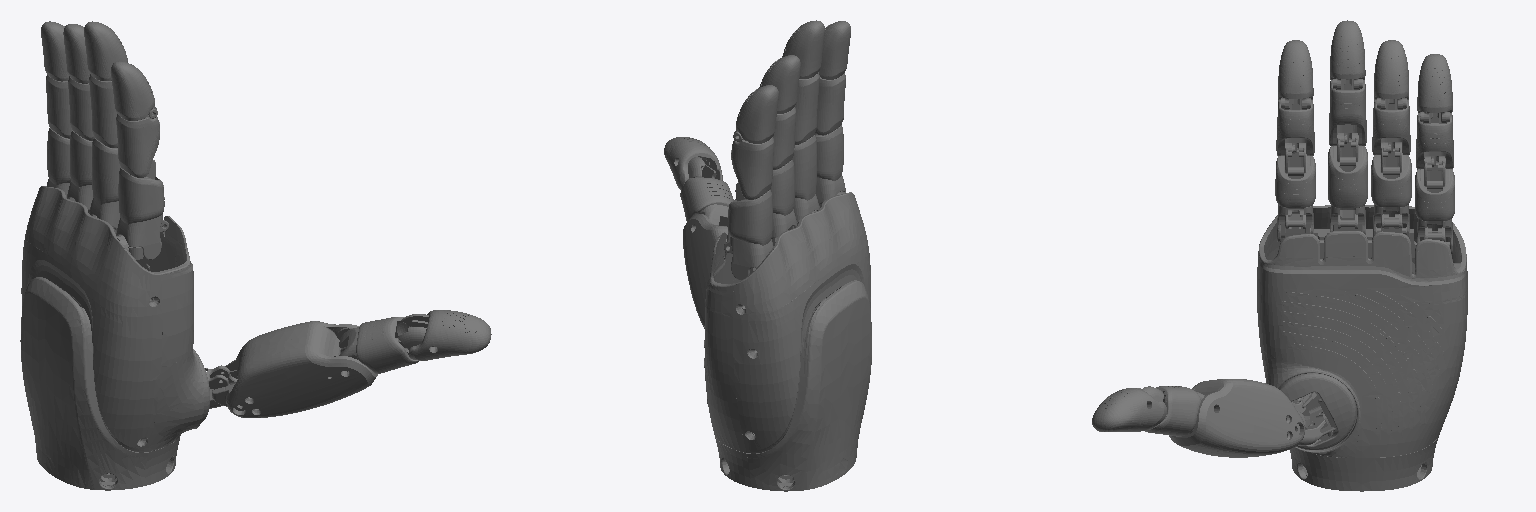
robot.urdf — omnihand:
<?xml version="1.0" ?>
<!-- =================================================================================== -->
<!-- |    This document was autogenerated by xacro from xacro/omnihand_pro_left.xacro  | -->
<!-- |    EDITING THIS FILE BY HAND IS NOT RECOMMENDED                                 | -->
<!-- =================================================================================== -->
<robot name="omnihand">
  <material name="black">
    <color rgba="0.5 0.5 0.5 1.0"/>
  </material>
  <link name="hand_base_link">
    <visual>
      <origin rpy="0 0 0" xyz="0 0 0"/>
      <geometry>
        <mesh filename="meshes/l_hand_base_link.STL"/>
      </geometry>
      <material name="black"/>
    </visual>
    <inertial>
      <origin rpy="0 0 0" xyz="-0.00425607657857528 0.000984907743219104 0.0569954669646572"/>
      <mass value="0.831592534870634"/>
      <inertia ixx="0.00130295787397277" ixy="1.00395530019145e-06" ixz="-2.62221439754335e-05" iyy="0.000759187526142393" iyz="-2.944807671301e-05" izz="0.000650439149629946"/>
    </inertial>
    <collision>
      <origin rpy="0 0 0" xyz="0 0 0.005"/>
      <geometry>
        <cylinder length="0.01" radius="0.032"/>
      </geometry>
    </collision>
    <collision>
      <origin rpy="0 0 0" xyz="0 0 0.057"/>
      <geometry>
        <box size="0.05 0.09 0.09"/>
      </geometry>
    </collision>
  </link>
  <!-- thumb  -->
  <link name="thumb_metacarpals_base1">
    <visual>
      <origin rpy="0 0 0" xyz="0 0 0"/>
      <geometry>
        <mesh filename="meshes/l_thumb_metacarpals_base1.STL"/>
      </geometry>
      <material name="black"/>
    </visual>
    <inertial>
      <origin rpy="0 0 0" xyz="0.0238985392698507 -8.492755494241e-05 0.00143588019194235"/>
      <mass value="0.0487218724123021"/>
      <inertia ixx="1.16014813613108e-05" ixy="1.23718071545455e-07" ixz="-3.36389573955908e-07" iyy="6.59632610273689e-06" iyz="2.95789245057348e-07" izz="6.64077304903063e-06"/>
    </inertial>
  </link>
  <joint name="thumb_roll_joint" type="revolute">
    <origin rpy="2.0246 0 0" xyz="-0.00148 -0.022278 0.04025"/>
    <parent link="hand_base_link"/>
    <child link="thumb_metacarpals_base1"/>
    <axis xyz="1 0 0"/>
    <limit effort="0.134" lower="-0.66" upper="0" velocity="2.38"/>
  </joint>
  <link name="thumb_metacarpals_base2">
    <visual>
      <origin rpy="0 0 0" xyz="0 0 0"/>
      <geometry>
        <mesh filename="meshes/l_thumb_metacarpals_base2.STL"/>
      </geometry>
      <material name="black"/>
    </visual>
    <inertial>
      <origin rpy="0 0 0" xyz="0.00144112186551029 0.00076971553695547 0.0110530851904386"/>
      <mass value="0.00527730022012764"/>
      <inertia ixx="5.13938107714071e-07" ixy="-2.10724699229959e-09" ixz="1.0099134807133e-08" iyy="3.23678037229255e-07" iyz="6.91586588373309e-08" izz="2.43364847603047e-07"/>
    </inertial>
    <collision>
      <origin rpy="0 0 0.9" xyz="0 0 0"/>
      <geometry>
        <box size="0.035 0.006 0.02"/>
      </geometry>
    </collision>
  </link>
  <joint name="thumb_abad_joint" type="revolute">
    <origin rpy="0 0.95993 0" xyz="0.029071 0 0.0033014"/>
    <parent link="thumb_metacarpals_base1"/>
    <child link="thumb_metacarpals_base2"/>
    <axis xyz="0 -1 0"/>
    <limit effort="0.317" lower="0" upper="1.22" velocity="2.33"/>
  </joint>
  <link name="thumb_metacarpals">
    <visual>
      <origin rpy="0 0 0" xyz="0 0 0"/>
      <geometry>
        <mesh filename="meshes/l_thumb_metacarpals.STL"/>
      </geometry>
      <material name="black"/>
    </visual>
    <inertial>
      <origin rpy="0 0 0" xyz="0.00248919792890584 -0.000126945293118824 0.0270125022282254"/>
      <mass value="0.0238744814807847"/>
      <inertia ixx="9.14065262802198e-06" ixy="-1.29455343848178e-08" ixz="1.28925259059347e-07" iyy="1.13640026182741e-05" iyz="1.59529488365259e-08" izz="2.86247043401986e-06"/>
    </inertial>
    <collision>
      <origin rpy="0 -1.57 0" xyz="0.005 0 0.03"/>
      <geometry>
        <box size="0.064 0.023 0.03"/>
      </geometry>
    </collision>
  </link>
  <joint name="thumb_mcp_joint" type="revolute">
    <origin rpy="0 0.66452 1.5708" xyz="0.0016774 0.0068611 0.022935"/>
    <parent link="thumb_metacarpals_base2"/>
    <child link="thumb_metacarpals"/>
    <axis xyz="0 -1 0"/>
    <limit effort="0.8" lower="-0.85" upper="0" velocity="1.35"/>
  </joint>
  <link name="thumb_proximal">
    <visual>
      <origin rpy="0 0 0" xyz="0 0 0"/>
      <geometry>
        <mesh filename="meshes/l_thumb_proximal.STL"/>
      </geometry>
      <material name="black"/>
    </visual>
    <inertial>
      <origin rpy="0 0 0" xyz="-0.00238172899603142 -0.000356731641777103 0.0132495532127846"/>
      <mass value="0.015089750823072"/>
      <inertia ixx="1.307652825223e-06" ixy="-2.30842431261842e-09" ixz="1.78861814916216e-07" iyy="1.76921581769367e-06" iyz="-1.30568351519278e-08" izz="8.42951187578533e-07"/>
    </inertial>
    <collision>
      <origin rpy="0 0 0" xyz="0 -0.002 0.02"/>
      <geometry>
        <cylinder length="0.02" radius="0.01"/>
      </geometry>
    </collision>
  </link>
  <joint name="thumb_pip_joint" type="revolute">
    <origin rpy="0 0 0" xyz="0.0067768 0 0.05582"/>
    <parent link="thumb_metacarpals"/>
    <child link="thumb_proximal"/>
    <axis xyz="0 -1 0"/>
    <limit effort="0.92" lower="-1.29" upper="0" velocity="1.87"/>
  </joint>
  <link name="thumb_distal">
    <visual>
      <origin rpy="0 0 0" xyz="0 0 0"/>
      <geometry>
        <mesh filename="meshes/l_thumb_distal.STL"/>
      </geometry>
      <material name="black"/>
    </visual>
    <inertial>
      <origin rpy="0 0 0" xyz="-0.00103086462486497 4.35579912222428e-07 0.0111718009868479"/>
      <mass value="0.0166245749238282"/>
      <inertia ixx="1.55367650349561e-06" ixy="6.28496740782693e-11" ixz="-2.68802086888384e-07" iyy="1.43025255900936e-06" iyz="3.60153740856451e-11" izz="8.87371852515915e-07"/>
    </inertial>
    <collision>
      <origin rpy="0 0 0" xyz="0 0 0.015"/>
      <geometry>
        <cylinder length="0.03" radius="0.01"/>
      </geometry>
    </collision>
  </link>
  <joint name="thumb_dip_joint" type="revolute">
    <origin rpy="0 0 0" xyz=" -0.0025791  0 0.034516"/>
    <parent link="thumb_proximal"/>
    <child link="thumb_distal"/>
    <axis xyz="0 -1 0"/>
    <limit effort="0.92" lower="-1.31" upper="0" velocity="1.9"/>
    <mimic joint="thumb_pip_joint" multiplier="0.8068" offset="0"/>
  </joint>
  <link name="thumb_distal_vertices_virtual_coordinates">
    <collision>
      <origin rpy="0 0 0" xyz="0 0 0"/>
      <geometry>
        <sphere radius="0.001"/>
      </geometry>
    </collision>
  </link>
  <joint name="thumb_tips" type="fixed">
    <origin rpy="0 0 0" xyz="-0.01107 0 0.02778"/>
    <parent link="thumb_distal"/>
    <child link="thumb_distal_vertices_virtual_coordinates"/>
    <axis xyz="0 0 0"/>
  </joint>
  <!-- index  -->
  <link name="index_metacarpals">
    <visual>
      <origin rpy="0 0 0" xyz="0 0 0"/>
      <geometry>
        <mesh filename="meshes/index_metacarpals.STL"/>
      </geometry>
      <material name="black"/>
    </visual>
    <inertial>
      <origin rpy="0 0 0" xyz="0.00904689264775126 -2.37541539321873e-06 0.00296439795566343"/>
      <mass value="0.00769184155607912"/>
      <inertia ixx="3.12253146637431e-07" ixy="8.36823610669688e-11" ixz="3.47679984094986e-08" iyy="1.96445680122249e-07" iyz="6.80359270914641e-11" izz="2.98132181313685e-07"/>
    </inertial>
  </link>
  <joint name="index_abad_joint" type="revolute">
    <origin rpy="0 0 0" xyz="-0.0134 -0.030778 0.11936"/>
    <parent link="hand_base_link"/>
    <child link="index_metacarpals"/>
    <axis xyz="1 0 0"/>
    <limit effort="1.001" lower="-0.26" upper="0.26" velocity="2.16"/>
  </joint>
  <link name="index_proximal">
    <visual>
      <origin rpy="0 0 0" xyz="0 0 0"/>
      <geometry>
        <mesh filename="meshes/index_proximal.STL"/>
      </geometry>
      <material name="black"/>
    </visual>
    <inertial>
      <origin rpy="0 0 0" xyz="-0.00199825952289442 -2.64457175807586e-05 0.0201667389503313"/>
      <mass value="0.00942126624293676"/>
      <inertia ixx="1.22975708566729e-06" ixy="2.28040809755226e-10" ixz="-5.99595621936577e-08" iyy="1.34371119474184e-06" iyz="-7.2313211083901e-10" izz="3.61297485727319e-07"/>
    </inertial>
    <collision>
      <origin rpy="0 0 0" xyz="-0.002 0 0.016"/>
      <geometry>
        <cylinder length="0.038" radius="0.01"/>
      </geometry>
    </collision>
  </link>
  <joint name="index_mcp_joint" type="revolute">
    <origin rpy="0 0 0" xyz="0.01357 0 0"/>
    <parent link="index_metacarpals"/>
    <child link="index_proximal"/>
    <axis xyz="0 1 0"/>
    <limit effort="0.42" lower="0" upper="1.33" velocity="2.22"/>
  </joint>
  <link name="index_middle">
    <visual>
      <origin rpy="0 0 0" xyz="0 0 0"/>
      <geometry>
        <mesh filename="meshes/index_middle.STL"/>
      </geometry>
      <material name="black"/>
    </visual>
    <inertial>
      <origin rpy="0 0 0" xyz="0.000915277748706721 -2.44819798689566e-05 0.0134565632396798"/>
      <mass value="0.00438956668936868"/>
      <inertia ixx="3.90192390925837e-07" ixy="-1.18711764286958e-10" ixz="3.07110243989117e-08" iyy="3.39842342249121e-07" iyz="4.52776521802555e-11" izz="2.34598309279793e-07"/>
    </inertial>
    <collision>
      <origin rpy="0 0 0" xyz="0.001 0 0.015"/>
      <geometry>
        <cylinder length="0.022" radius="0.01"/>
      </geometry>
    </collision>
  </link>
  <joint name="index_pip_joint" type="revolute">
    <origin rpy="0 0 0" xyz="-0.0044047 0 0.039781"/>
    <parent link="index_proximal"/>
    <child link="index_middle"/>
    <axis xyz="0 1 0"/>
    <limit effort="0.216" lower="0" upper="1.48" velocity="2.49"/>
  </joint>
  <link name="index_distal">
    <visual>
      <origin rpy="0 0 0" xyz="0 0 0"/>
      <geometry>
        <mesh filename="meshes/index_distal.STL"/>
      </geometry>
      <material name="black"/>
    </visual>
    <inertial>
      <origin rpy="0 0 0" xyz="-0.00788115735969092 -1.62686611911711e-05 0.00734085069241115"/>
      <mass value="0.00919575167024177"/>
      <inertia ixx="6.1598320028546e-07" ixy="4.87748545899042e-10" ixz="-1.46101909693797e-07" iyy="6.32146337383652e-07" iyz="-1.82637544331928e-09" izz="3.00226734906959e-07"/>
    </inertial>
    <collision>
      <origin rpy="0 0 0" xyz="-0.006 0 0.013"/>
      <geometry>
        <cylinder length="0.02" radius="0.01"/>
      </geometry>
    </collision>
  </link>
  <joint name="index_dip_joint" type="revolute">
    <origin rpy="0 0 0" xyz=" 0.0058514  0 0.026478"/>
    <parent link="index_middle"/>
    <child link="index_distal"/>
    <axis xyz="0 1 0"/>
    <limit effort="0.216" lower="0" upper="1.31" velocity="2.85"/>
    <mimic joint="index_pip_joint" multiplier="1.0362" offset="0"/>
  </joint>
  <link name="index_distal_vertices_virtual_coordinates">
    <collision>
      <origin rpy="0 0 0" xyz="0 0 0"/>
      <geometry>
        <sphere radius="0.001"/>
      </geometry>
    </collision>
  </link>
  <joint name="index_tip" type="fixed">
    <origin rpy="0 0 0" xyz="-0.01465 0 0.02533"/>
    <parent link="index_distal"/>
    <child link="index_distal_vertices_virtual_coordinates"/>
  </joint>
  <!-- middle  -->
  <link name="middle_metacarpals">
    <visual>
      <origin rpy="0 0 0" xyz="0 0 0"/>
      <geometry>
        <mesh filename="meshes/middle_metacarpals.STL"/>
      </geometry>
      <material name="black"/>
    </visual>
    <inertial>
      <origin rpy="0 0 0" xyz="0.00886137366293534 -3.75661207696609e-09 0.00266832955690114"/>
      <mass value="0.00637102949978218"/>
      <inertia ixx="2.41627954466445e-07" ixy="2.52962153485538e-12" ixz="2.44913153285072e-08" iyy="1.58576266250976e-07" iyz="5.93368216213693e-13" izz="2.58849212903404e-07"/>
    </inertial>
  </link>
  <joint name="middle_abad_joint" type="revolute">
    <origin rpy="0 0 0" xyz="-0.0134 -0.0066607 0.11936"/>
    <parent link="hand_base_link"/>
    <child link="middle_metacarpals"/>
    <axis xyz="1 0 0"/>
    <limit effort="1.031" lower="-0.26" upper="0.26" velocity="2.16"/>
  </joint>
  <link name="middle_proximal">
    <visual>
      <origin rpy="0 0 0" xyz="0 0 0"/>
      <geometry>
        <mesh filename="meshes/middle_proximal.STL"/>
      </geometry>
      <material name="black"/>
    </visual>
    <inertial>
      <origin rpy="0 0 0" xyz="-0.00165476847526829 -2.20979993567627e-06 0.0225332391057417"/>
      <mass value="0.0105445601098368"/>
      <inertia ixx="1.73042184201086e-06" ixy="2.04331701697306e-10" ixz="-5.90285580204209e-08" iyy="1.85661332749592e-06" iyz="-1.32105746258306e-09" izz="4.2136357029816e-07"/>
    </inertial>
    <collision>
      <origin rpy="0 0 0" xyz="-0.002 0 0.016"/>
      <geometry>
        <cylinder length="0.04" radius="0.01"/>
      </geometry>
    </collision>
  </link>
  <joint name="middle_mcp_joint" type="revolute">
    <origin rpy="0 0 0" xyz="0.01337 0 0"/>
    <parent link="middle_metacarpals"/>
    <child link="middle_proximal"/>
    <axis xyz="0 1 0"/>
    <limit effort="0.413" lower="0" upper="1.33" velocity="2.22"/>
  </joint>
  <link name="middle_middle">
    <visual>
      <origin rpy="0 0 0" xyz="0 0 0"/>
      <geometry>
        <mesh filename="meshes/middle_middle.STL"/>
      </geometry>
      <material name="black"/>
    </visual>
    <inertial>
      <origin rpy="0 0 0" xyz="0.000830746222013005 4.34482098339573e-05 0.0161492835641447"/>
      <mass value="0.00495728561619528"/>
      <inertia ixx="5.48440909443586e-07" ixy="6.39554522791554e-11" ixz="4.33803111439142e-08" iyy="4.91459567907306e-07" iyz="-6.02486738632266e-11" izz="2.62953076584762e-07"/>
    </inertial>
    <collision>
      <origin rpy="0 0 0" xyz="0.001 0 0.014"/>
      <geometry>
        <cylinder length="0.028" radius="0.01"/>
      </geometry>
    </collision>
  </link>
  <joint name="middle_pip_joint" type="revolute">
    <origin rpy="0 0 0" xyz="-0.0040396 0 0.044837"/>
    <parent link="middle_proximal"/>
    <child link="middle_middle"/>
    <axis xyz="0 1 0"/>
    <limit effort="0.136" lower="0" upper="1.71" velocity="2.16"/>
  </joint>
  <link name="middle_distal">
    <visual>
      <origin rpy="0 0 0" xyz="0 0 0"/>
      <geometry>
        <mesh filename="meshes/middle_distal.STL"/>
      </geometry>
      <material name="black"/>
    </visual>
    <inertial>
      <origin rpy="0 0 0" xyz="-0.00783321210053064 0.000103726115592395 0.00739196062285884"/>
      <mass value="0.00919573396837047"/>
      <inertia ixx="6.17868791705364e-07" ixy="4.75945812309197e-10" ixz="-1.44033848644933e-07" iyy="6.32143569461496e-07" iyz="-1.83019369609838e-09" izz="2.98337914527375e-07"/>
    </inertial>
    <collision>
      <origin rpy="0 0 0" xyz="-0.006 0 0.014"/>
      <geometry>
        <cylinder length="0.018" radius="0.01"/>
      </geometry>
    </collision>
  </link>
  <joint name="middle_dip_joint" type="revolute">
    <origin rpy="0 0 0" xyz=" 0.005529  0 0.031336"/>
    <parent link="middle_middle"/>
    <child link="middle_distal"/>
    <axis xyz="0 1 0"/>
    <limit effort="0.136" lower="0" upper="1.31" velocity="2.48"/>
    <mimic joint="middle_pip_joint" multiplier="1.0924" offset="0"/>
  </joint>
  <link name="middle_distal_vertices_virtual_coordinates">
    <collision>
      <origin rpy="0 0 0" xyz="0 0 0"/>
      <geometry>
        <sphere radius="0.001"/>
      </geometry>
    </collision>
  </link>
  <joint name="middle_tip" type="fixed">
    <origin rpy="0 0 0" xyz="-0.01465 0 0.02533"/>
    <parent link="middle_distal"/>
    <child link="middle_distal_vertices_virtual_coordinates"/>
  </joint>
  <!-- ring  -->
  <link name="ring_proximal">
    <visual>
      <origin rpy="0 0 0" xyz="0 0 0"/>
      <geometry>
        <mesh filename="meshes/ring_proximal.STL"/>
      </geometry>
      <material name="black"/>
    </visual>
    <inertial>
      <origin rpy="0 0 0" xyz="-0.00161802170047008 2.08220096852268e-05 0.0212342177709951"/>
      <mass value="0.0047795328266326"/>
      <inertia ixx="5.43923252152409e-07" ixy="8.48896522637981e-11" ixz="2.4689478865027e-08" iyy="5.41640127982143e-07" iyz="2.5218290048469e-10" izz="1.76501748993068e-07"/>
    </inertial>
    <collision>
      <origin rpy="0 0 0" xyz="-0.002 0 0.014"/>
      <geometry>
        <cylinder length="0.035" radius="0.01"/>
      </geometry>
    </collision>
  </link>
  <joint name="ring_mcp_joint" type="revolute">
    <origin rpy="0.0 0.0 0.0" xyz="0.0001598 0.013518 0.11972"/>
    <parent link="hand_base_link"/>
    <child link="ring_proximal"/>
    <axis xyz="0 1 0"/>
    <limit effort="0.444" lower="0" upper="1.38" velocity="2.54"/>
  </joint>
  <link name="ring_middle">
    <visual>
      <origin rpy="0 0 0" xyz="0 0 0"/>
      <geometry>
        <mesh filename="meshes/ring_middle.STL"/>
      </geometry>
      <material name="black"/>
    </visual>
    <inertial>
      <origin rpy="0 0 0" xyz="0.000940340714750308 1.66667751162405e-05 0.0134216382614548"/>
      <mass value="0.0047795328266326"/>
      <inertia ixx="2.25767846748625e-07" ixy="-4.61360531413437e-12" ixz="2.32301202429608e-09" iyy="1.61875511170868e-07" iyz="9.05860342855209e-12" izz="1.17700137222491e-07"/>
    </inertial>
    <collision>
      <origin rpy="0 0 0" xyz="0.0015 0 0.014"/>
      <geometry>
        <cylinder length="0.028" radius="0.01"/>
      </geometry>
    </collision>
  </link>
  <joint name="ring_pip_joint" type="revolute">
    <origin rpy="0 0 0" xyz="-0.0039371 0 0.03983"/>
    <parent link="ring_proximal"/>
    <child link="ring_middle"/>
    <axis xyz="0 1 0"/>
    <limit effort="0.444" lower="0" upper="1.57" velocity="2.29"/>
    <mimic joint="ring_mcp_joint" multiplier="0.877" offset="0"/>
  </joint>
  <link name="ring_distal">
    <visual>
      <origin rpy="0 0 0" xyz="0 0 0"/>
      <geometry>
        <mesh filename="meshes/ring_distal.STL"/>
      </geometry>
      <material name="black"/>
    </visual>
    <inertial>
      <origin rpy="0 0 0" xyz="-0.0077943915041099 -2.51275100347781e-05 0.00743291370409035"/>
      <mass value="0.00919575186910556"/>
      <inertia ixx="6.19370856718727e-07" ixy="4.661874813998e-10" ixz="-1.42352843928183e-07" iyy="6.32145627609476e-07" iyz="-1.83190371320788e-09" izz="2.9683840460863e-07"/>
    </inertial>
    <collision>
      <origin rpy="0 0 0" xyz="-0.006 0 0.014"/>
      <geometry>
        <cylinder length="0.018" radius="0.01"/>
      </geometry>
    </collision>
  </link>
  <joint name="ring_dip_joint" type="revolute">
    <origin rpy="0 0 0" xyz=" 0.006162  0 0.026407"/>
    <parent link="ring_middle"/>
    <child link="ring_distal"/>
    <axis xyz="0 1 0"/>
    <limit effort="0.444" lower="0" upper="1.31" velocity="2.62"/>
    <mimic joint="ring_mcp_joint" multiplier="0.9394" offset="0"/>
  </joint>
  <link name="ring_distal_vertices_virtual_coordinates">
    <collision>
      <origin rpy="0 0 0" xyz="0 0 0"/>
      <geometry>
        <sphere radius="0.001"/>
      </geometry>
    </collision>
  </link>
  <joint name="ring_tip_joint" type="fixed">
    <origin rpy="0 0 0" xyz="-0.01465 0 0.02533"/>
    <parent link="ring_distal"/>
    <child link="ring_distal_vertices_virtual_coordinates"/>
  </joint>
  <!-- ring  -->
  <link name="pinky_proximal">
    <visual>
      <origin rpy="0 0 0" xyz="0 0 0"/>
      <geometry>
        <mesh filename="meshes/ring_proximal.STL"/>
      </geometry>
      <material name="black"/>
    </visual>
    <inertial>
      <origin rpy="0 0 0" xyz="-0.00161802170047008 2.08220096852268e-05 0.0212342177709951"/>
      <mass value="0.0047795328266326"/>
      <inertia ixx="5.43923252152409e-07" ixy="8.48896522637981e-11" ixz="2.4689478865027e-08" iyy="5.41640127982143e-07" iyz="2.5218290048469e-10" izz="1.76501748993068e-07"/>
    </inertial>
    <collision>
      <origin rpy="0 0 0" xyz="-0.002 0 0.014"/>
      <geometry>
        <cylinder length="0.035" radius="0.01"/>
      </geometry>
    </collision>
  </link>
  <joint name="pinky_mcp_joint" type="revolute">
    <origin rpy="0.0 0.0 0.0" xyz="0.0001598 0.033576 0.11272"/>
    <parent link="hand_base_link"/>
    <child link="pinky_proximal"/>
    <axis xyz="0 1 0"/>
    <limit effort="0.444" lower="0" upper="1.38" velocity="2.54"/>
  </joint>
  <link name="pinky_middle">
    <visual>
      <origin rpy="0 0 0" xyz="0 0 0"/>
      <geometry>
        <mesh filename="meshes/ring_middle.STL"/>
      </geometry>
      <material name="black"/>
    </visual>
    <inertial>
      <origin rpy="0 0 0" xyz="0.000940340714750308 1.66667751162405e-05 0.0134216382614548"/>
      <mass value="0.0047795328266326"/>
      <inertia ixx="2.25767846748625e-07" ixy="-4.61360531413437e-12" ixz="2.32301202429608e-09" iyy="1.61875511170868e-07" iyz="9.05860342855209e-12" izz="1.17700137222491e-07"/>
    </inertial>
    <collision>
      <origin rpy="0 0 0" xyz="0.0015 0 0.014"/>
      <geometry>
        <cylinder length="0.028" radius="0.01"/>
      </geometry>
    </collision>
  </link>
  <joint name="pinky_pip_joint" type="revolute">
    <origin rpy="0 0 0" xyz="-0.0039371 0 0.03983"/>
    <parent link="pinky_proximal"/>
    <child link="pinky_middle"/>
    <axis xyz="0 1 0"/>
    <limit effort="0.444" lower="0" upper="1.57" velocity="2.29"/>
    <mimic joint="pinky_mcp_joint" multiplier="0.877" offset="0"/>
  </joint>
  <link name="pinky_distal">
    <visual>
      <origin rpy="0 0 0" xyz="0 0 0"/>
      <geometry>
        <mesh filename="meshes/ring_distal.STL"/>
      </geometry>
      <material name="black"/>
    </visual>
    <inertial>
      <origin rpy="0 0 0" xyz="-0.0077943915041099 -2.51275100347781e-05 0.00743291370409035"/>
      <mass value="0.00919575186910556"/>
      <inertia ixx="6.19370856718727e-07" ixy="4.661874813998e-10" ixz="-1.42352843928183e-07" iyy="6.32145627609476e-07" iyz="-1.83190371320788e-09" izz="2.9683840460863e-07"/>
    </inertial>
    <collision>
      <origin rpy="0 0 0" xyz="-0.006 0 0.014"/>
      <geometry>
        <cylinder length="0.018" radius="0.01"/>
      </geometry>
    </collision>
  </link>
  <joint name="pinky_dip_joint" type="revolute">
    <origin rpy="0 0 0" xyz=" 0.006162  0 0.026407"/>
    <parent link="pinky_middle"/>
    <child link="pinky_distal"/>
    <axis xyz="0 1 0"/>
    <limit effort="0.444" lower="0" upper="1.31" velocity="2.62"/>
    <mimic joint="pinky_mcp_joint" multiplier="0.9394" offset="0"/>
  </joint>
  <link name="pinky_distal_vertices_virtual_coordinates">
    <collision>
      <origin rpy="0 0 0" xyz="0 0 0"/>
      <geometry>
        <sphere radius="0.001"/>
      </geometry>
    </collision>
  </link>
  <joint name="pinky_tip_joint" type="fixed">
    <origin rpy="0 0 0" xyz="-0.01465 0 0.02533"/>
    <parent link="pinky_distal"/>
    <child link="pinky_distal_vertices_virtual_coordinates"/>
  </joint>
</robot>

--- What the picture shows (computed from the rendered views, not written in the file) ---
Views: 3 orthographic renders of the robot side by side, from view 1: azimuth 30°, elevation 25°; view 2: azimuth 150°, elevation 25°; view 3: azimuth 270°, elevation 25°.
Robot: omnihand — 25 links, 24 joints (19 revolute, 5 fixed); root link hand_base_link; default pose: all joints at 0.
Visible links, largest first — view 1: hand_base_link, thumb_metacarpals, thumb_distal, index_proximal, thumb_proximal, index_middle, middle_proximal, index_distal, middle_distal, middle_middle, ring_proximal, pinky_proximal (+5 smaller); view 2: hand_base_link, pinky_proximal, thumb_metacarpals, pinky_middle, thumb_distal, thumb_proximal, pinky_distal, index_proximal, middle_proximal, middle_distal, ring_proximal, index_distal (+4 smaller); view 3: hand_base_link, thumb_metacarpals, middle_proximal, thumb_metacarpals_base1, ring_proximal, index_proximal, pinky_proximal, thumb_distal, pinky_distal, index_distal, ring_distal, middle_distal (+6 smaller).
Link boxes in pixels (bbox=[...]): hand_base_link: bbox=[20, 186, 203, 490]; thumb_metacarpals: bbox=[212, 321, 377, 417]; thumb_distal: bbox=[398, 310, 491, 360]; index_proximal: bbox=[116, 160, 168, 259]; thumb_proximal: bbox=[339, 317, 418, 373]; index_middle: bbox=[116, 108, 159, 177]; middle_proximal: bbox=[89, 138, 120, 232]; index_distal: bbox=[111, 61, 156, 120]; middle_distal: bbox=[84, 21, 127, 80]; middle_middle: bbox=[89, 74, 117, 147]; ring_proximal: bbox=[67, 130, 92, 209]; pinky_proximal: bbox=[47, 128, 75, 201]; hand_base_link: bbox=[704, 191, 871, 491]; pinky_proximal: bbox=[724, 182, 773, 279]; thumb_metacarpals: bbox=[683, 214, 727, 326]; pinky_middle: bbox=[731, 131, 773, 199]; thumb_distal: bbox=[664, 137, 722, 189]; thumb_proximal: bbox=[680, 177, 733, 226]; pinky_distal: bbox=[734, 85, 778, 143]; index_proximal: bbox=[814, 125, 845, 207]; middle_proximal: bbox=[789, 135, 819, 229]; middle_distal: bbox=[782, 20, 824, 78]; ring_proximal: bbox=[770, 160, 796, 238]; index_distal: bbox=[819, 21, 850, 79]; hand_base_link: bbox=[1257, 205, 1467, 491]; thumb_metacarpals: bbox=[1169, 379, 1305, 457]; middle_proximal: bbox=[1328, 133, 1367, 234]; thumb_metacarpals_base1: bbox=[1278, 373, 1355, 449]; ring_proximal: bbox=[1371, 142, 1411, 238]; index_proximal: bbox=[1275, 143, 1315, 241]; pinky_proximal: bbox=[1415, 156, 1454, 254]; thumb_distal: bbox=[1092, 386, 1166, 431]; pinky_distal: bbox=[1417, 54, 1452, 123]; index_distal: bbox=[1278, 40, 1313, 109]; ring_distal: bbox=[1374, 40, 1408, 109]; middle_distal: bbox=[1330, 20, 1365, 89].
Bounding box of the posed robot: 0.1626 × 0.1736 × 0.2241 m (x, y, z).
20 mesh visuals loaded from 17 distinct referenced files (17 binary STL).